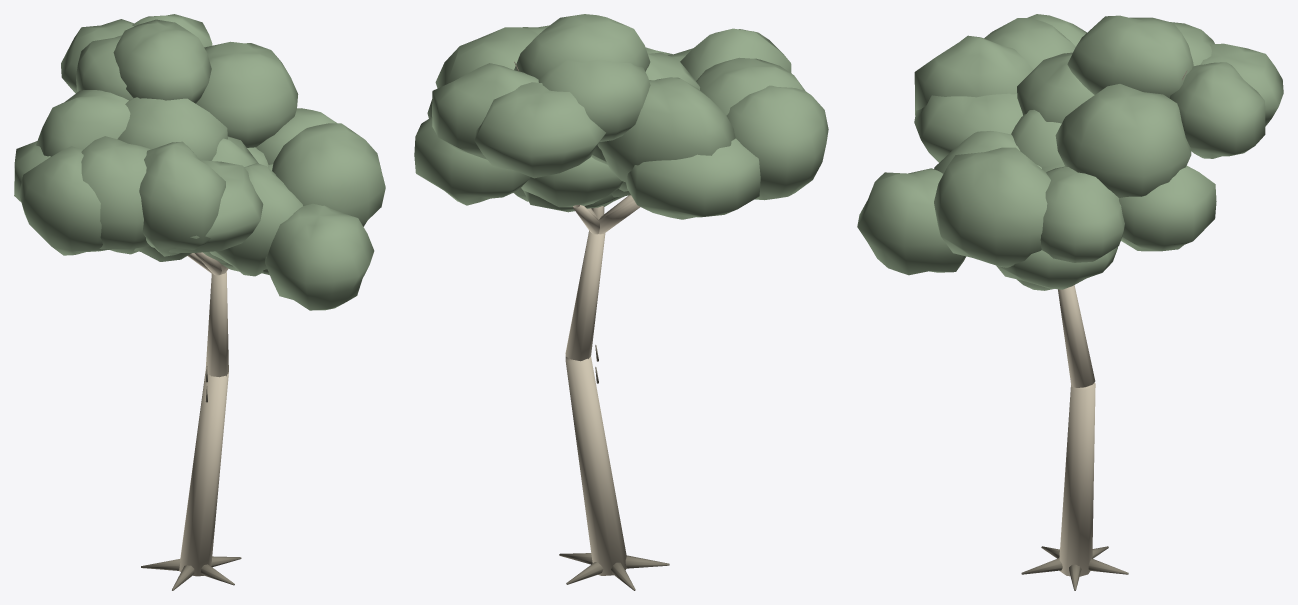
Rendered from beta_tree_paperbark.glb.
The picture shows the model from 3 angles, left to right: view 1: azimuth 30°, elevation 25°; view 2: azimuth 150°, elevation 25°; view 3: azimuth 270°, elevation 25°; orthographic projection. The views are drawn at different scales.
Visible parts, largest first — view 1: Canopy soft sage foliage.002, Beta pale peeling bark.002, Beta dark bark ridges.002; view 2: Canopy soft sage foliage.002, Beta pale peeling bark.002, Beta dark bark ridges.002; view 3: Canopy soft sage foliage.002, Beta pale peeling bark.002, Beta dark bark ridges.002.
Part boxes in pixels (left/top/right/bottom): Canopy soft sage foliage.002: left=14, top=14, right=385, bottom=310; Beta pale peeling bark.002: left=179, top=252, right=228, bottom=576; Beta dark bark ridges.002: left=141, top=366, right=241, bottom=590; Canopy soft sage foliage.002: left=414, top=14, right=828, bottom=219; Beta pale peeling bark.002: left=565, top=195, right=640, bottom=575; Beta dark bark ridges.002: left=514, top=61, right=669, bottom=590; Canopy soft sage foliage.002: left=857, top=14, right=1283, bottom=290; Beta pale peeling bark.002: left=1058, top=285, right=1095, bottom=576; Beta dark bark ridges.002: left=1021, top=71, right=1186, bottom=590.
Bounding box in the file's own units: 6.19 × 9.1 × 6.46.
